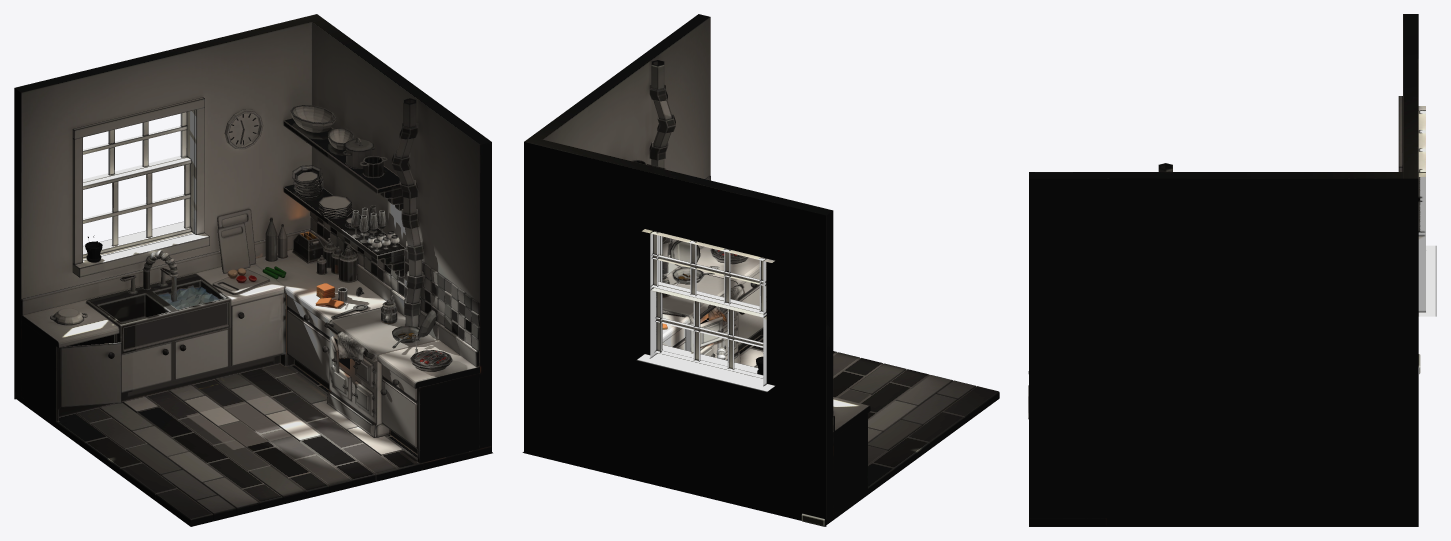
The model's file is kitchen-transformed.glb.
3 views of the same model, side by side, from view 1: azimuth 30°, elevation 25°; view 2: azimuth 150°, elevation 25°; view 3: azimuth 270°, elevation 25° (orthographic). The views are drawn at different scales.
Parts seen in each view (by area): view 1: combined, Plane; view 2: Plane, combined; view 3: Plane, combined.
Boxes of the visible parts, left/top/right/bottom form: combined: left=14, top=14, right=491, bottom=526; Plane: left=14, top=142, right=492, bottom=526; Plane: left=522, top=142, right=964, bottom=526; combined: left=524, top=14, right=999, bottom=526; Plane: left=1029, top=178, right=1418, bottom=526; combined: left=1028, top=14, right=1436, bottom=525.
Size of the model in its own units: 3.2 by 3.13 by 3.33.
7 materials, 6 textured.
